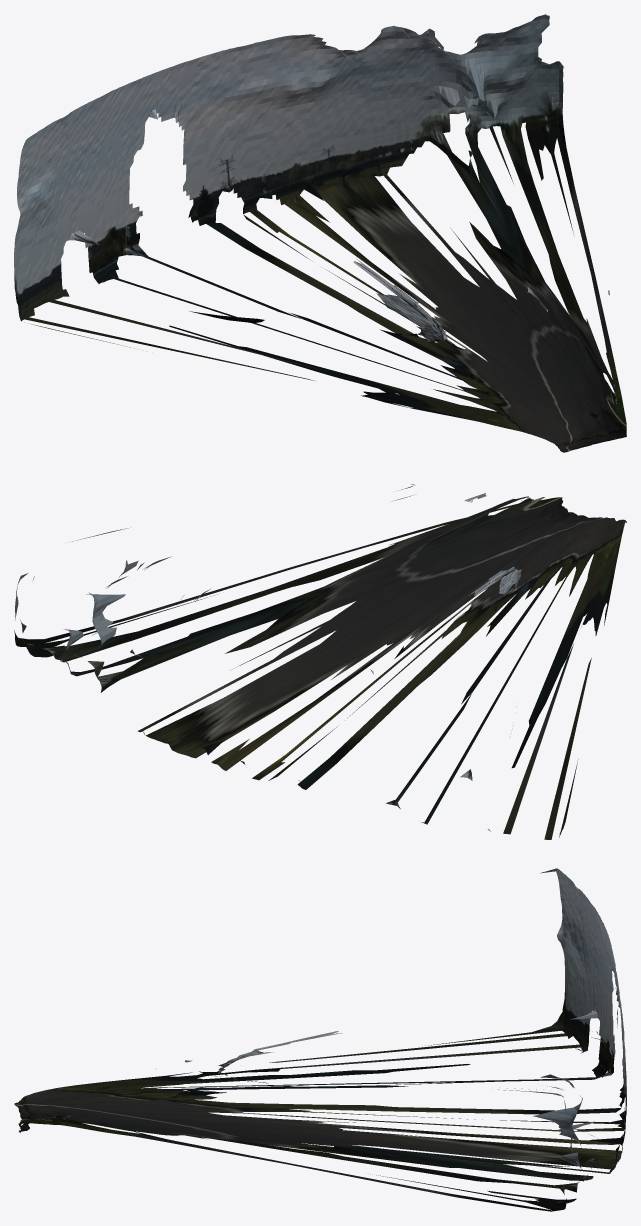
The picture shows the model from 3 angles, top to bottom: view 1: azimuth 30°, elevation 25°; view 2: azimuth 150°, elevation 25°; view 3: azimuth 270°, elevation 25°; orthographic projection. The views are drawn at different scales.
Parts seen in each view (by area): view 1: defaultobject; view 2: defaultobject; view 3: defaultobject.
Boxes of the visible parts, x1,y1,x2,y2 form: defaultobject: (14,14,626,452); defaultobject: (14,484,626,839); defaultobject: (14,868,626,1211).
Bounding box in the file's own units: 41.05 × 13.93 × 44.55.
1 material, 1 textured.
